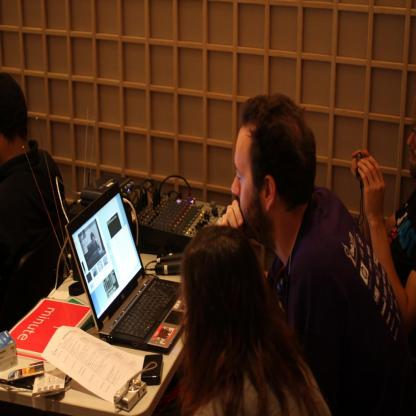board: (64, 181, 184, 354)
